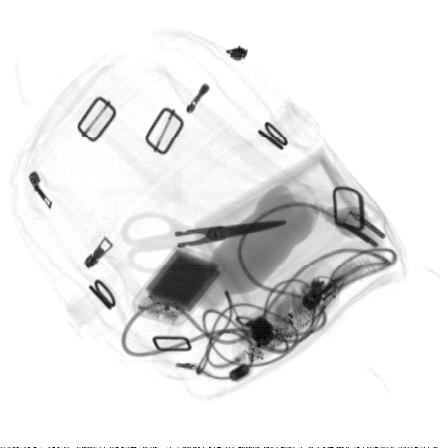Powerbank: (129, 241, 228, 329)
Scissors: (119, 211, 290, 277)
